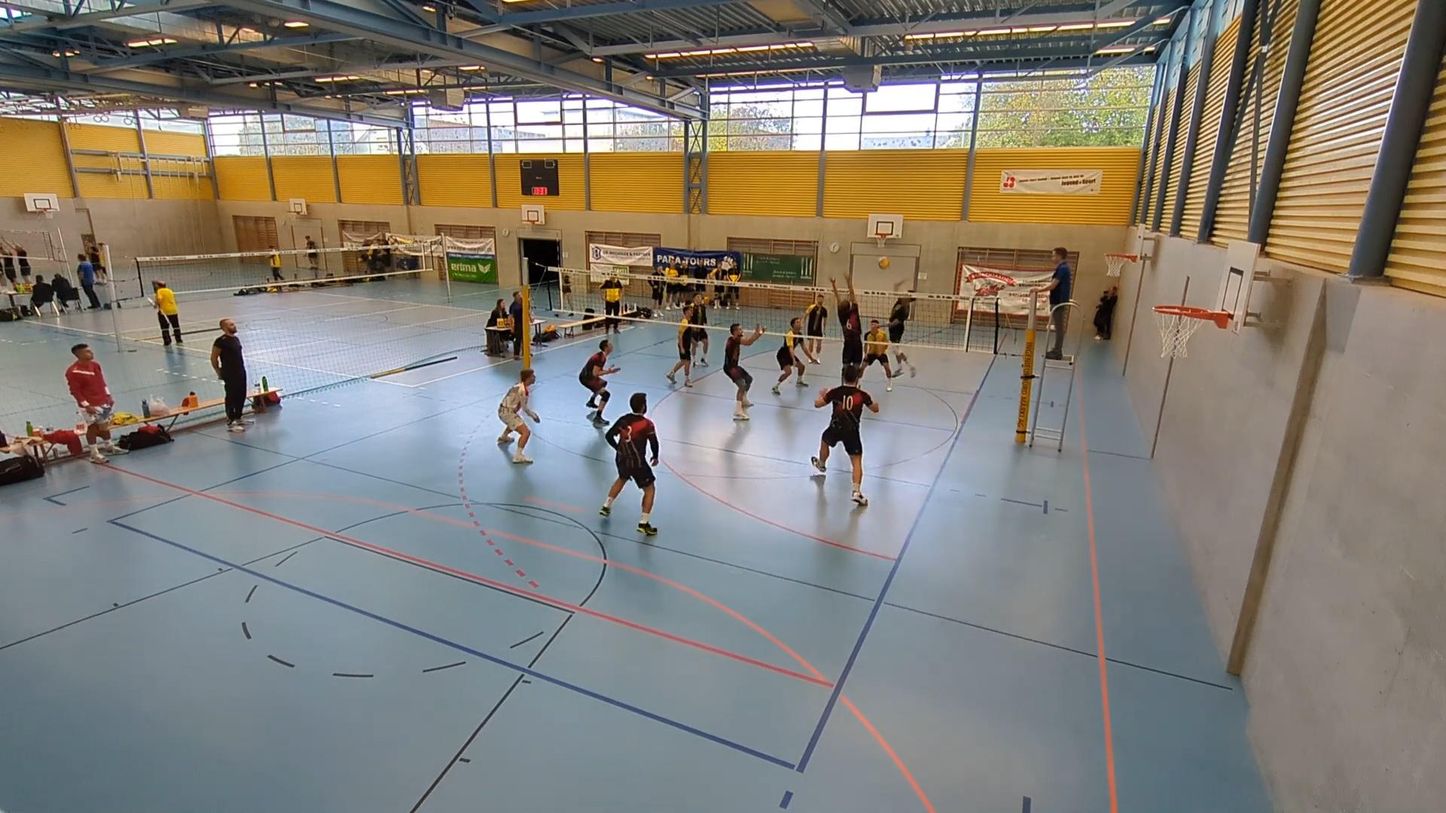attacco: (876, 277, 925, 388)
muro: (833, 270, 865, 372)
